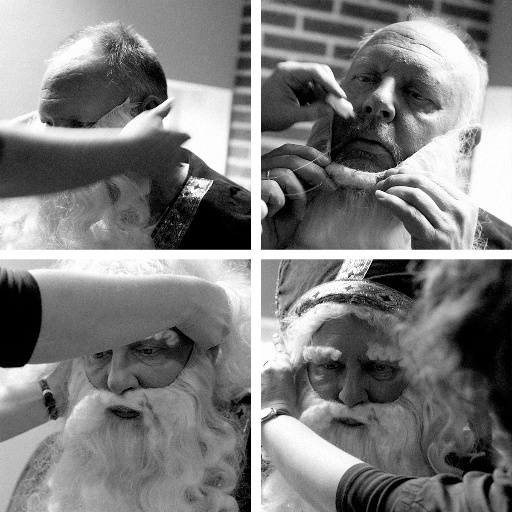hand: (368, 139, 482, 246), (259, 59, 347, 132), (259, 142, 331, 221), (120, 96, 191, 176), (175, 279, 232, 349), (259, 331, 294, 412), (46, 358, 72, 418), (259, 198, 268, 232)
